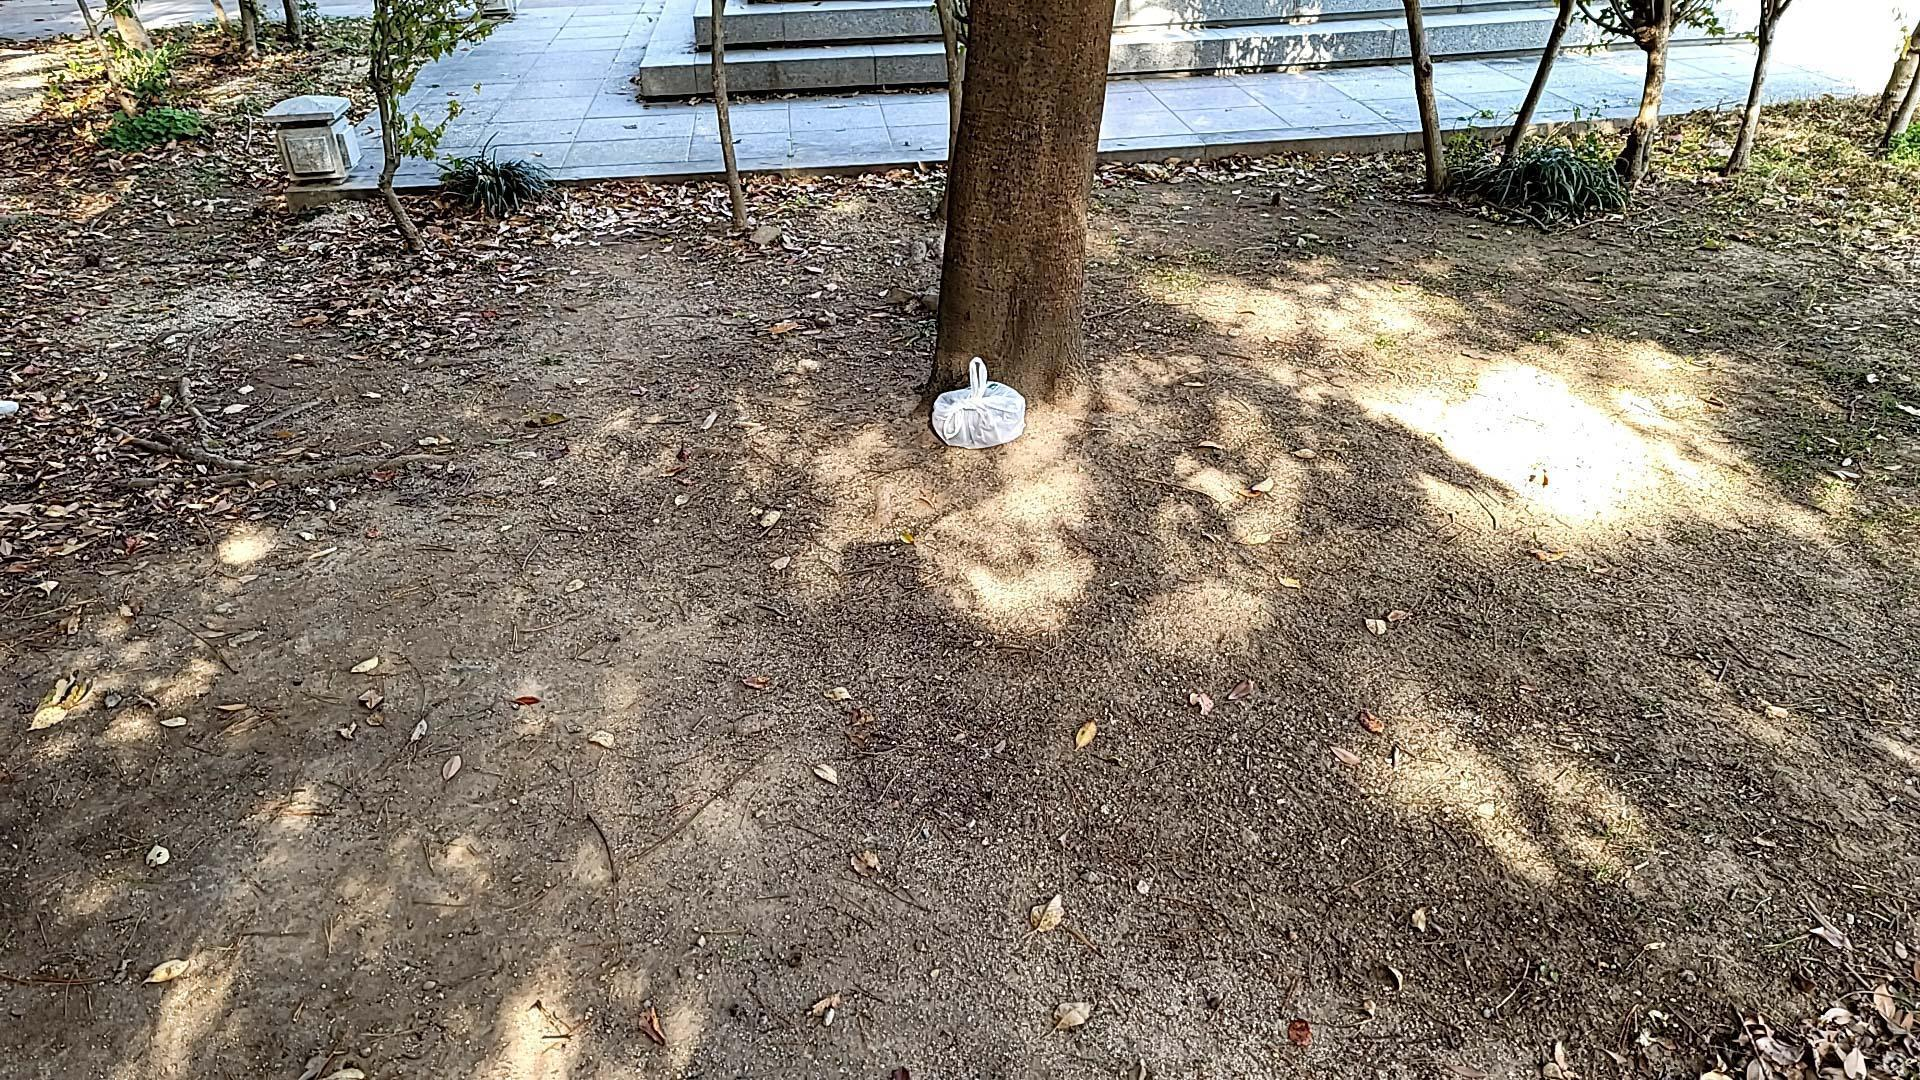white_bag: (924, 351, 1033, 452)
